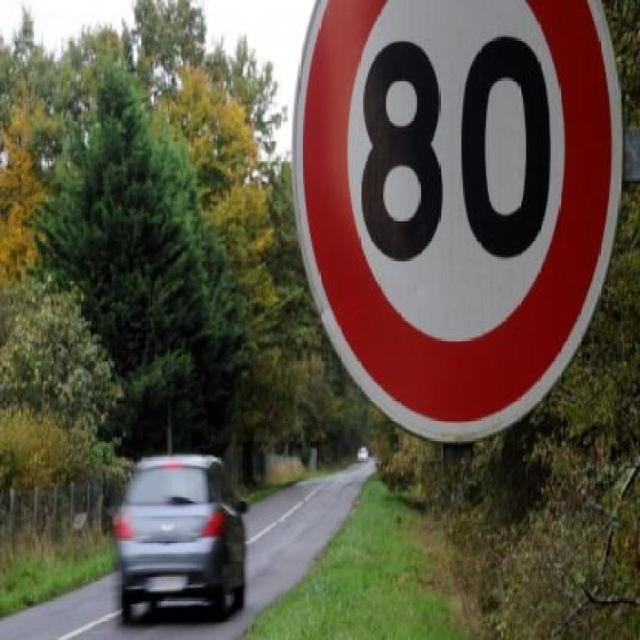forb_speed_over_80: (311, 8, 588, 369)
